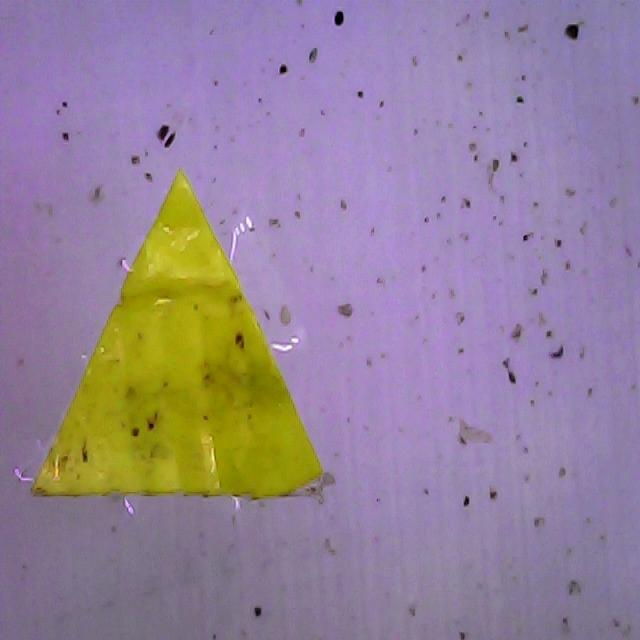fragments: (0, 167, 327, 590)
